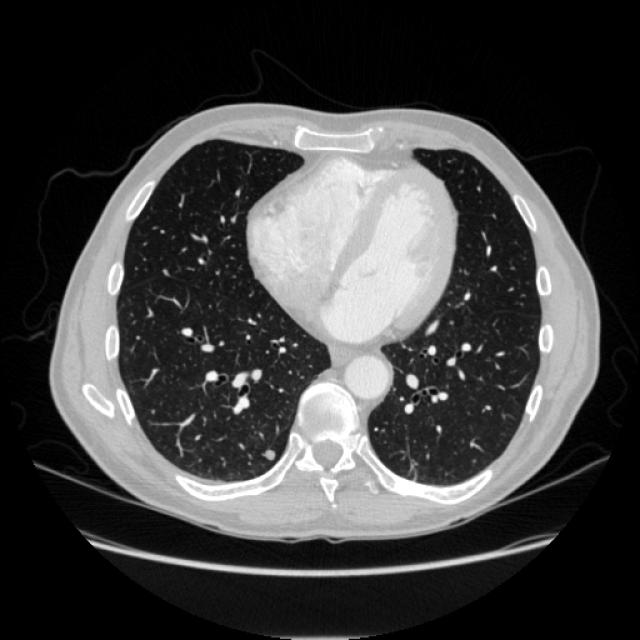nodule: (256, 442, 282, 466)
